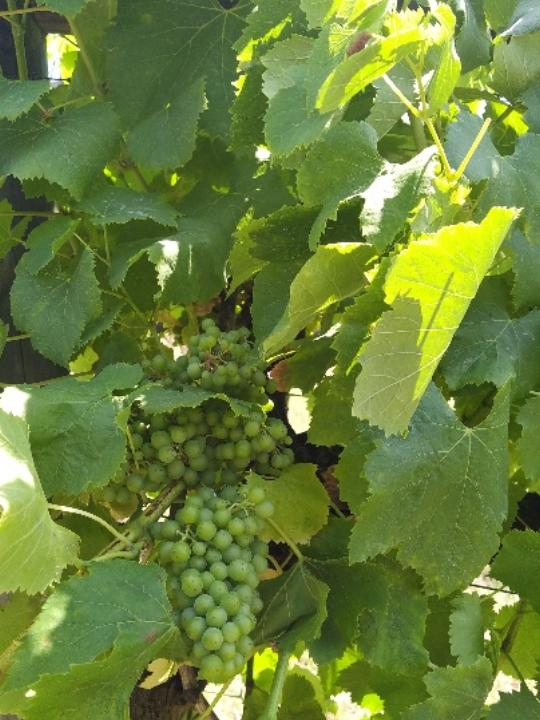grape: (96, 319, 321, 696)
